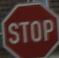Stop sign: (0, 0, 58, 57)
